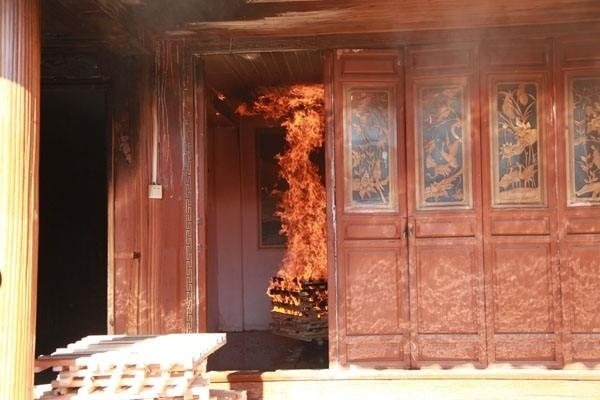fire: (252, 82, 329, 323)
